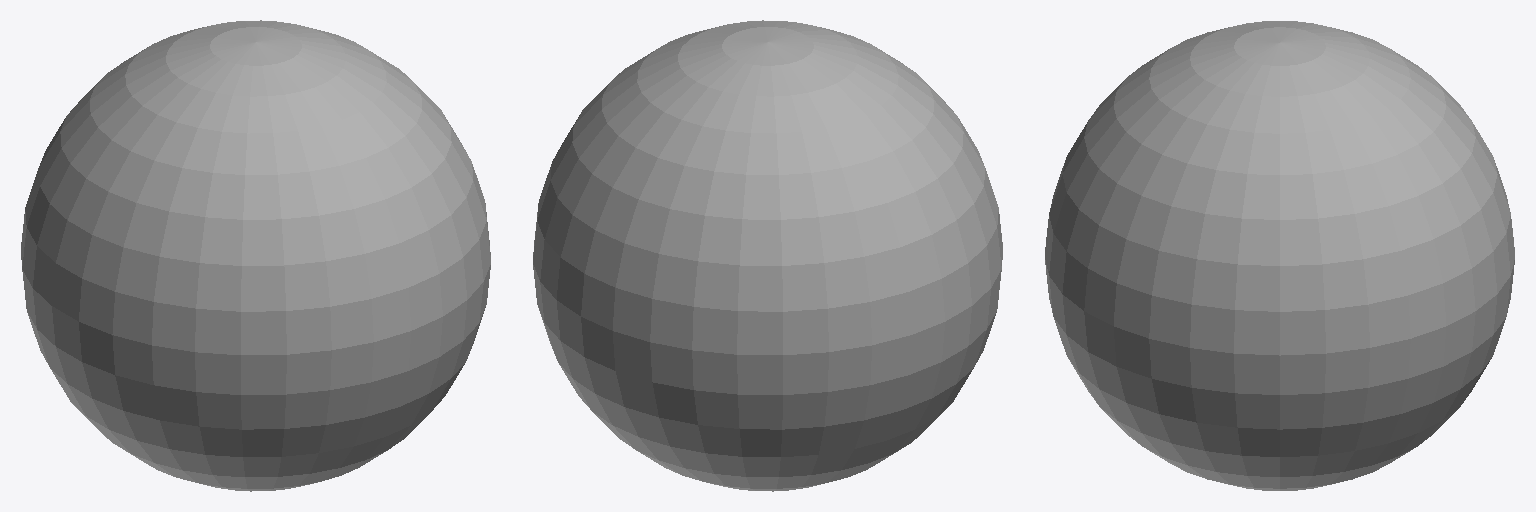
The robot description file, URDF, robot "box":
<?xml version="1.0" ?>
<robot name="box" xmlns:xacro="http://www.ros.org/wiki/xacro">
  <material name="yellow">
    <color rgba="1 1 0 0.5"/>
  </material>  
  <material name="red">
    <color rgba="0.7 0.7 0.7 0.5"/>
  </material>    
  <link name="world"/>
	<link name="box_link">
		<inertial>
			<origin rpy="0 0 0" xyz="0 0 0"/>
			<mass value="0" />
			<inertia ixx="0.0" iyy="0.0" izz="0.0" ixy="0" iyz="0" ixz="0"/>
		</inertial>
		<visual>
			<origin rpy="0 0 0.0" xyz="0 0 0"/>
			<geometry>
				<cylinder radius="0.1" length="0.001"/>
			</geometry>
		<material name="yellow"/>
		</visual>
		<collision>
			<origin rpy="0 0 0.0" xyz="0 0 0"/>
			<geometry>
				<cylinder radius="0.1" length="0.001"/>
			</geometry>
		</collision>
	</link>
	<link name="sensor_link">
		<inertial>
			<origin rpy="0 0 0" xyz="0 0 0"/>
			<mass value="1" />
			<inertia ixx="0.0" iyy="0.0" izz="0.0" ixy="0" iyz="0" ixz="0"/>
		</inertial>
		<visual>
			<origin rpy="0 0 0" xyz="0 0 0.125"/>
			<geometry>
				<sphere radius="0.5" />
			</geometry>
		<material name="red"/>
		</visual>
		<collision>
			<origin rpy="0 0 0" xyz="0 0 0.125"/>
			<geometry>
				<sphere radius="0.5"/>
			</geometry>
		</collision>
	</link>	
<joint name="world_joint" type="fixed">
    <parent link="world"/>
    <child link="box_link"/>
    <origin rpy="0 0 0" xyz="0 0 0.0"/>
  </joint>

  <joint name="sensor_joint" type="floating">
    <parent link="box_link"/>
    <child link="sensor_link"/>
    <origin rpy="0 0 0" xyz="0 0 0.000"/>
  </joint>
</robot>

--- Render facts (derived) ---
Views: 3 orthographic renders of the robot side by side, from view 1: azimuth 30°, elevation 25°; view 2: azimuth 150°, elevation 25°; view 3: azimuth 270°, elevation 25°.
Model box with 3 links and 2 joints (1 fixed, 1 floating), rooted at world, posed every joint at zero.
Visible links, largest first — view 1: sensor_link; view 2: sensor_link; view 3: sensor_link.
Link boxes in pixels (x1=…): sensor_link: x1=21, y1=20, x2=490, y2=491; sensor_link: x1=533, y1=20, x2=1002, y2=491; sensor_link: x1=1045, y1=21, x2=1514, y2=490.
Size in the robot's own frame: 1 by 1 by 1 metres.
Geometry: primitives only (box / cylinder / sphere), no mesh files.